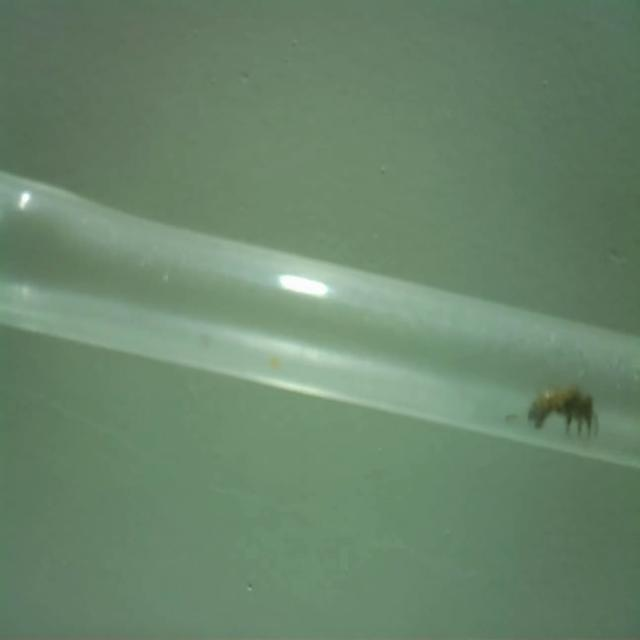Honeybee-Detection: (526, 384, 600, 439)
